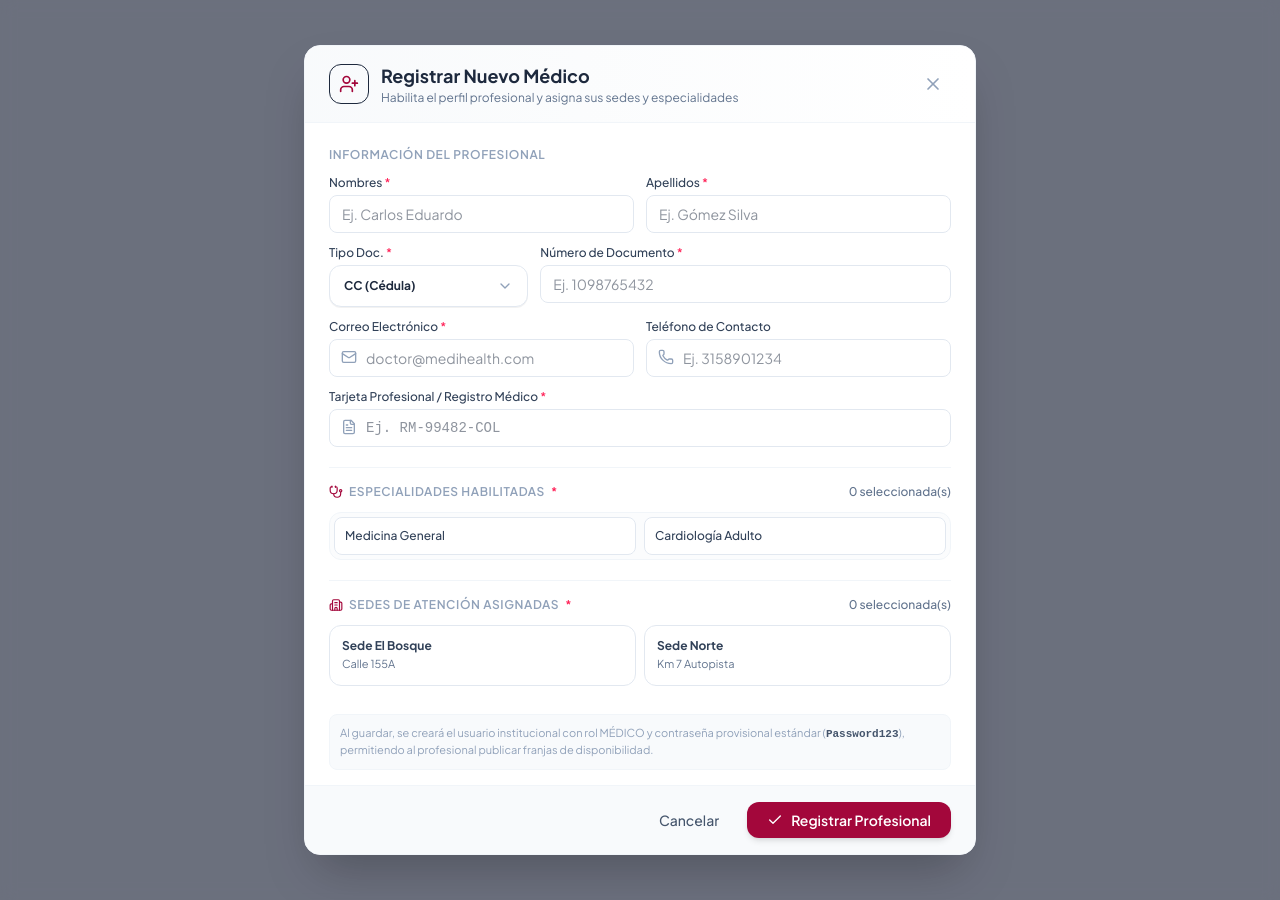
Test: CreateProfessionalModal - Registro de Médicos › valida campos obligatorios antes de enviar
The image size is (1280, 900).
Note: Intentar registrar sin datos
Click the button "Registrar Profesional": x=849, y=820 x1=747 y1=802 x2=951 y2=838
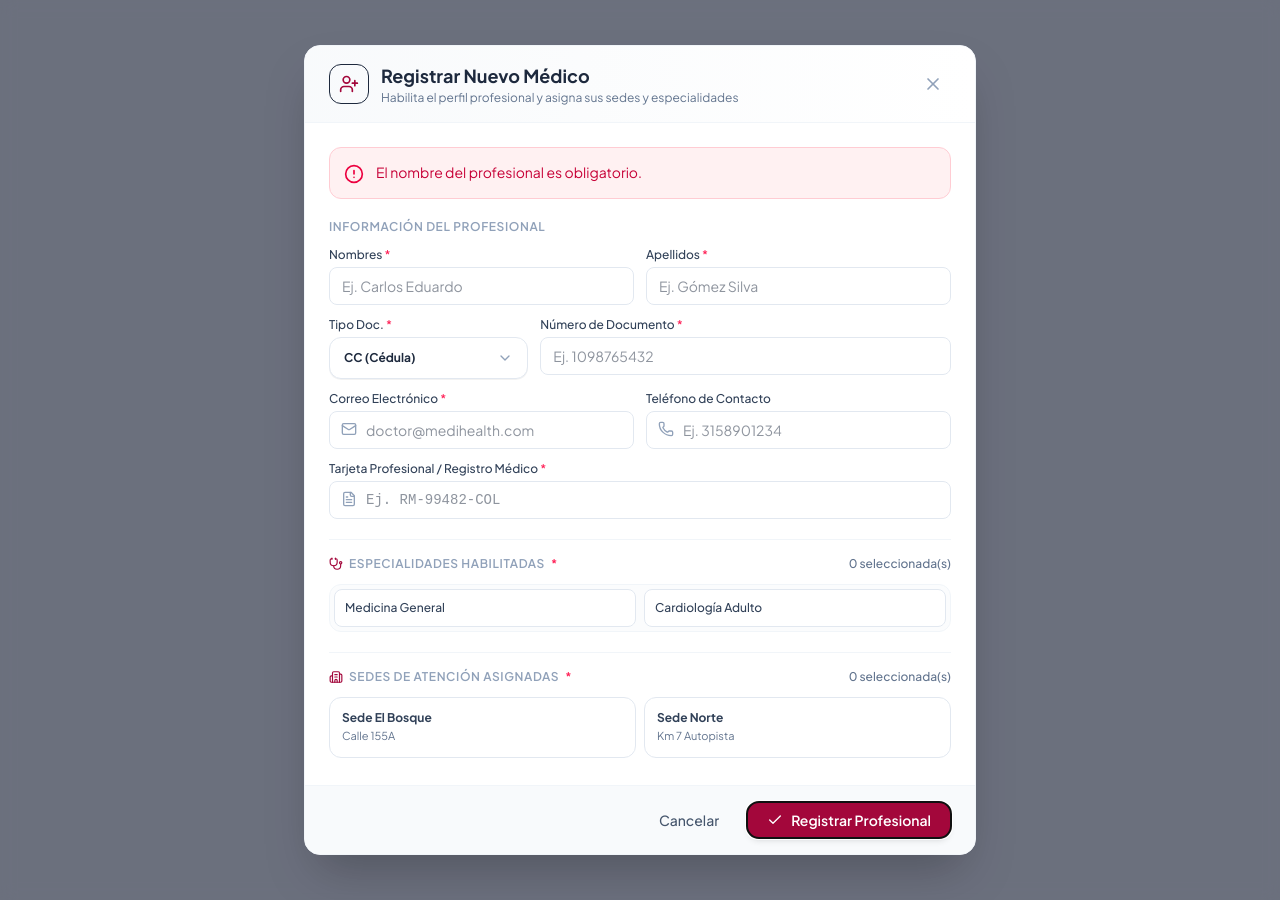
Now the text "El nombre del profesional es obligatorio." is shown, box x1=376 y1=162 x2=642 y2=182
